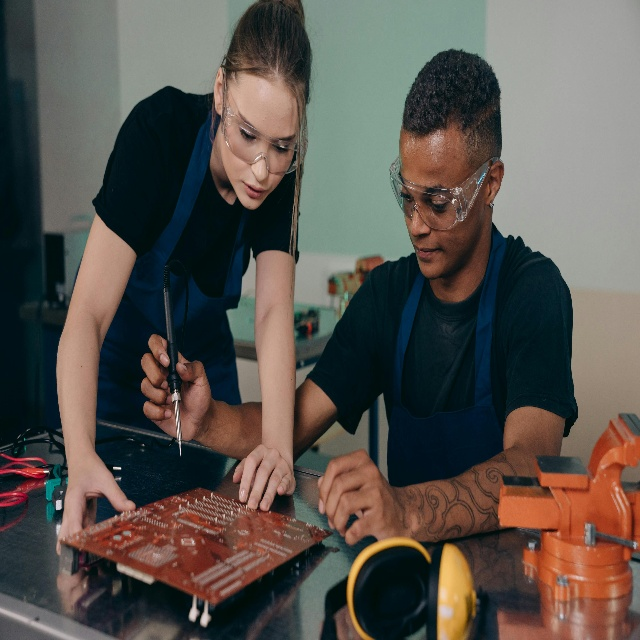Sin_guantes: (316, 445, 400, 546), (137, 332, 210, 446), (61, 462, 136, 539), (231, 442, 296, 517)
